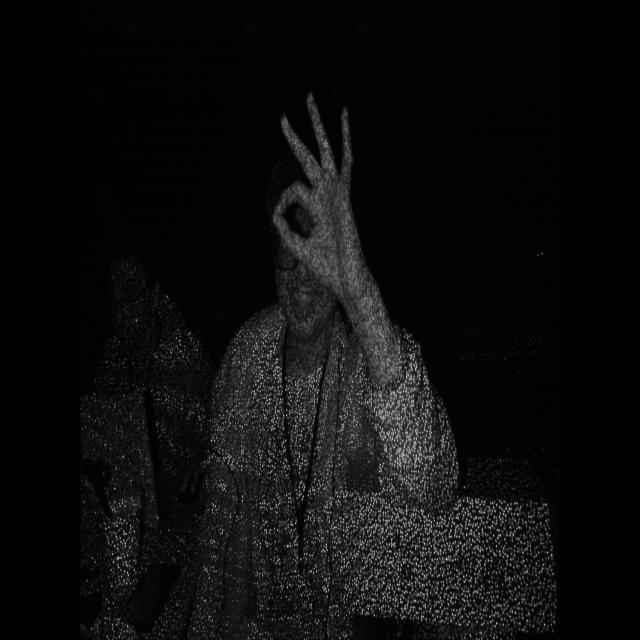F: (262, 68, 380, 324)
